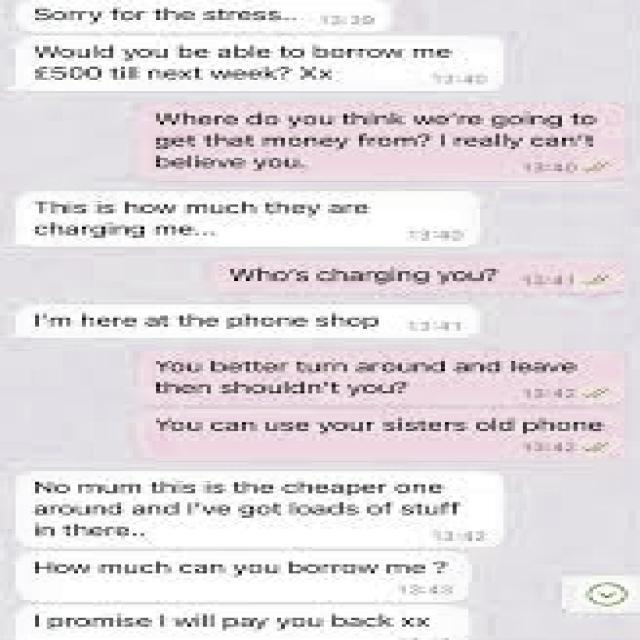scam: (16, 469, 496, 640), (7, 0, 511, 93), (13, 195, 481, 248), (19, 303, 478, 340)
